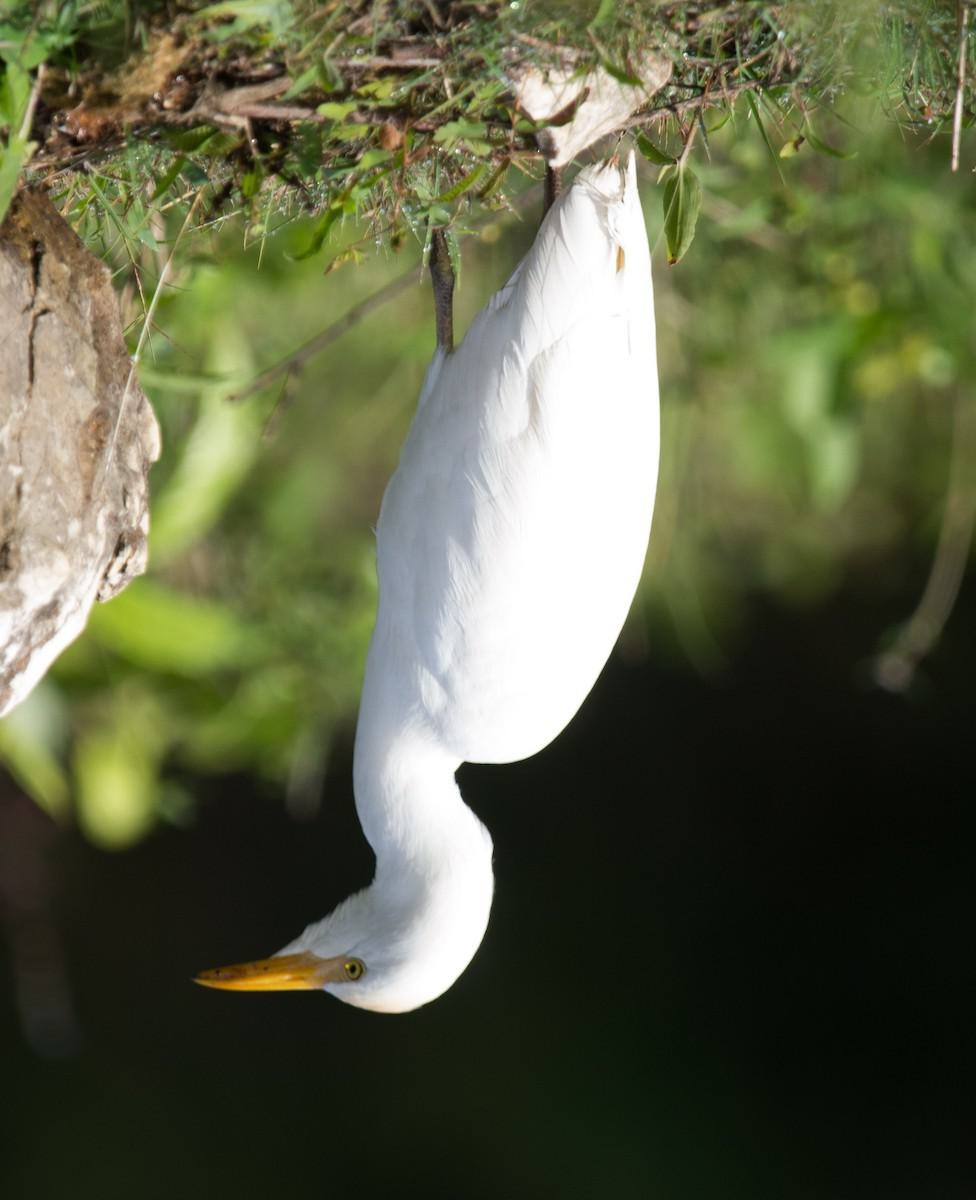egret: (178, 99, 815, 1031)
